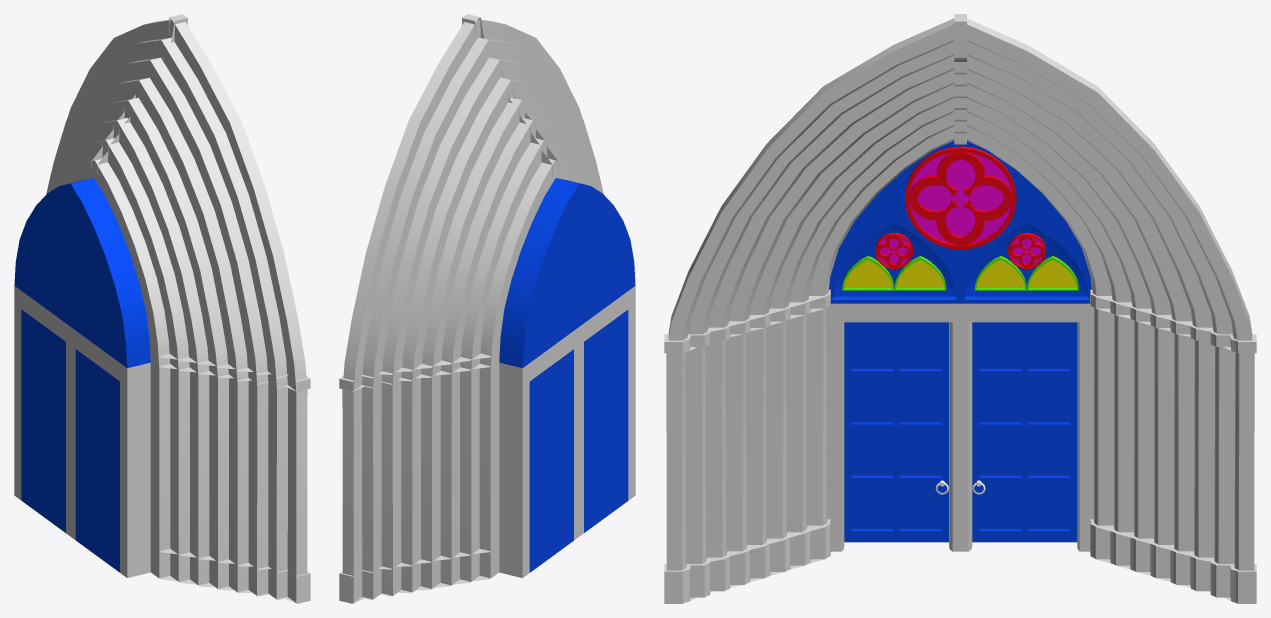
The model's file is Main Door Raw.fbx.
3 views of the same model, side by side, from view 1: azimuth 30°, elevation 25°; view 2: azimuth 150°, elevation 25°; view 3: azimuth 270°, elevation 25° (orthographic). The views are drawn at different scales.
Parts seen in each view (by area): view 1: Plane.015, Circle.005, Circle.006, Circle.004, Plane.017; view 2: Plane.015, Circle.005, Circle.006, Circle.004, Plane.017; view 3: Plane.015, Circle.005, Circle.006, Plane.017, Circle.004, Plane.016.
Boxes of the visible parts, x1,y1,x2,y2 form: Plane.015: (46, 19, 307, 602); Circle.005: (21, 309, 119, 572); Circle.006: (14, 178, 150, 368); Circle.004: (14, 286, 150, 577); Plane.017: (91, 14, 310, 603); Plane.015: (342, 19, 603, 602); Circle.005: (529, 310, 628, 572); Circle.006: (499, 178, 635, 368); Circle.004: (499, 286, 635, 577); Plane.017: (339, 14, 558, 603); Plane.015: (666, 18, 1254, 570); Circle.005: (844, 322, 1077, 542); Circle.006: (829, 141, 1091, 303); Plane.017: (664, 14, 1256, 603); Circle.004: (827, 303, 1093, 551); Plane.016: (844, 153, 1076, 287).
Bounding box in the file's own units: 590 × 2425 × 2235.
